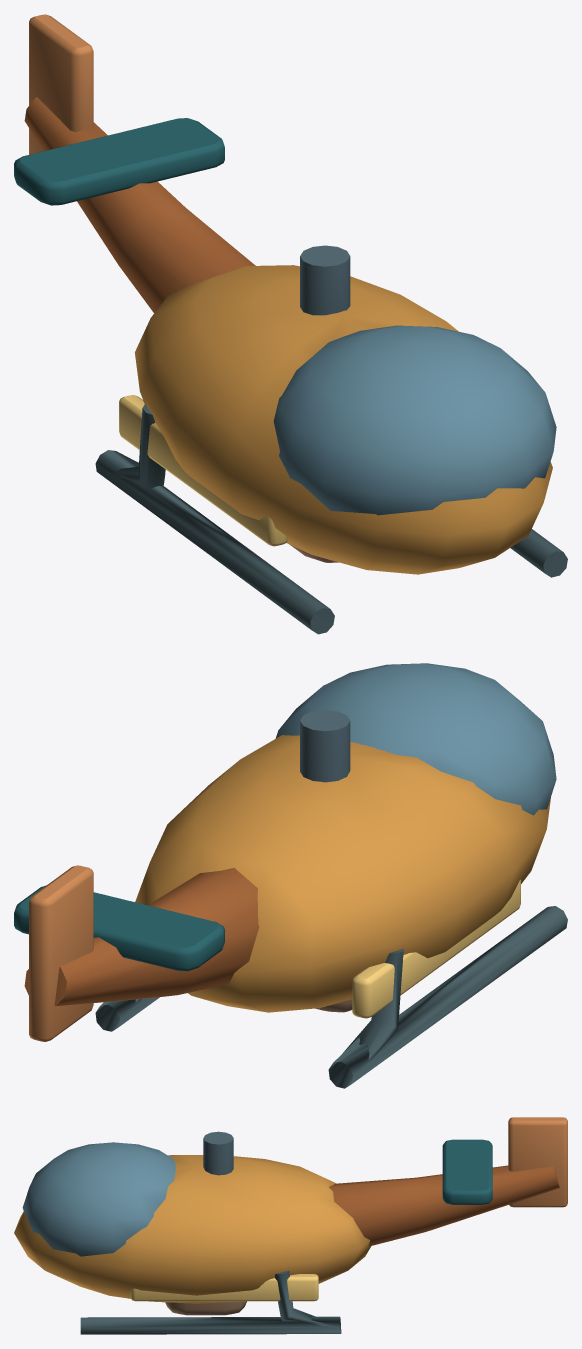
File: helicopter.glb
3 renders of one model, top to bottom at view 1: azimuth 30°, elevation 25°; view 2: azimuth 150°, elevation 25°; view 3: azimuth 270°, elevation 25°, orthographic. The views are drawn at different scales.
Visible parts, largest first — view 1: helicopter; view 2: helicopter; view 3: helicopter.
Boxes of the visible parts, <box> form: helicopter: <box>14,14,567,634</box>; helicopter: <box>14,663,567,1088</box>; helicopter: <box>14,1117,567,1334</box>.
Size of the model in its own units: 1.29 by 1.31 by 3.54.
